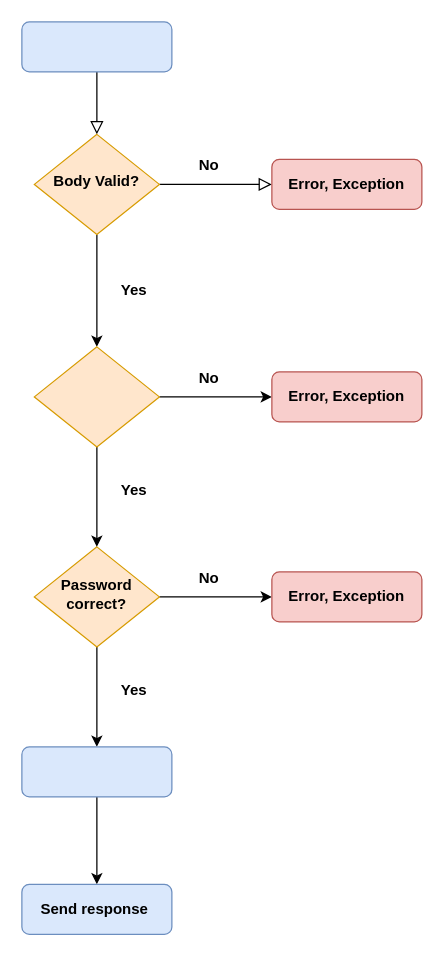
Image size: 444x956. Some labels were removed from this diagram. The centre of each missing label's shape, as x and y in pixels:
Create auth jwt token: point 96,771
Email exist?: point 96,396
Login request: point 96,46
